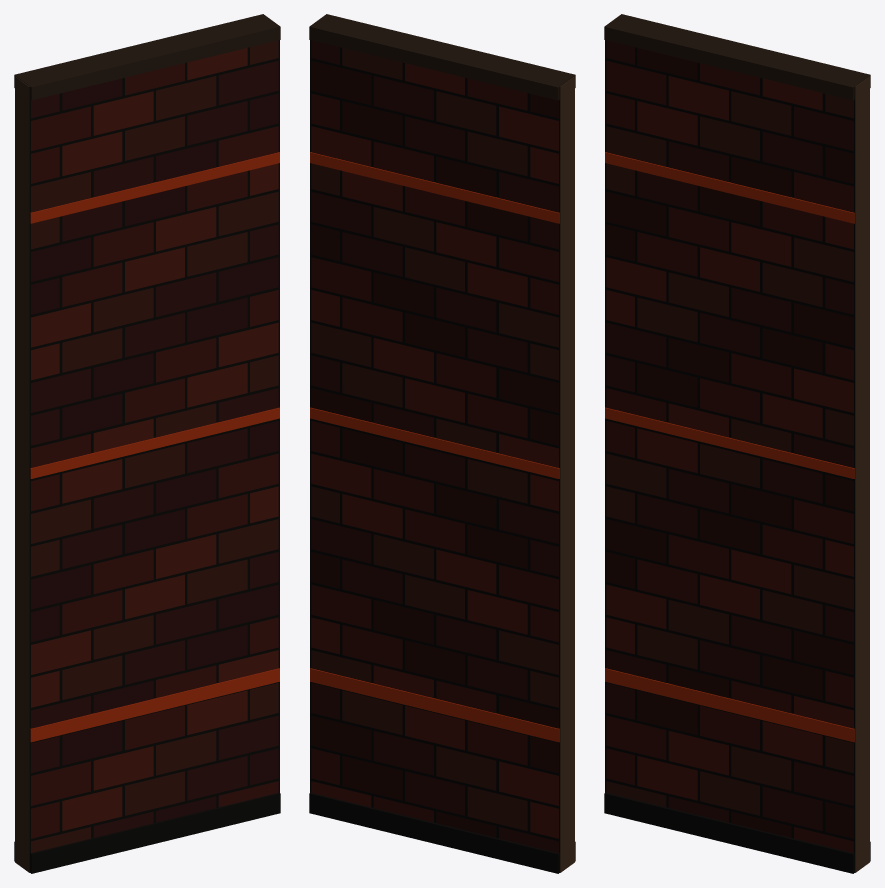
File: SM_Wall_2x6_Hideout.glb
The picture shows the model from 3 angles, left to right: view 1: azimuth 30°, elevation 25°; view 2: azimuth 150°, elevation 25°; view 3: azimuth 330°, elevation 25°; orthographic projection.
Parts seen in each view (by area): view 1: SM_Wall_2x6_Hideout-col; view 2: SM_Wall_2x6_Hideout-col; view 3: SM_Wall_2x6_Hideout-col.
Boxes of the visible parts, x1,y1,x2,y2 form: SM_Wall_2x6_Hideout-col: [14, 14, 280, 873]; SM_Wall_2x6_Hideout-col: [309, 14, 575, 873]; SM_Wall_2x6_Hideout-col: [604, 14, 870, 873].
Size of the model in its own units: 2 by 6.01 by 0.24.
